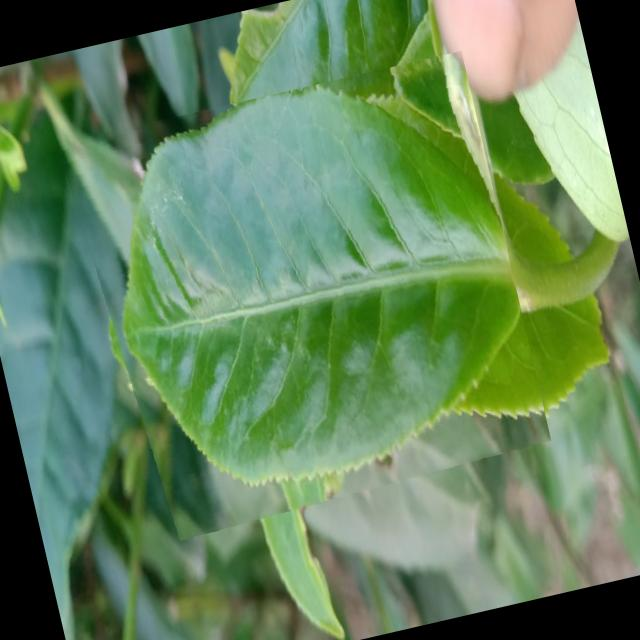Category B 2-4 days: (56, 49, 554, 546)
